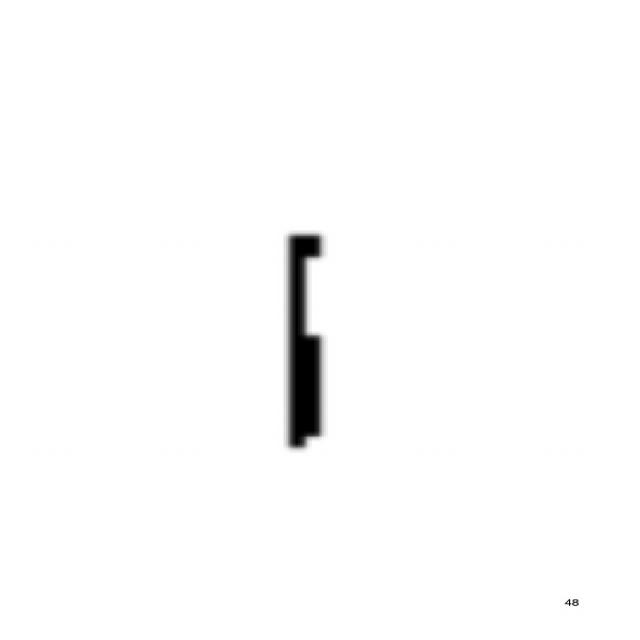1 -one-: (258, 211, 347, 466)
